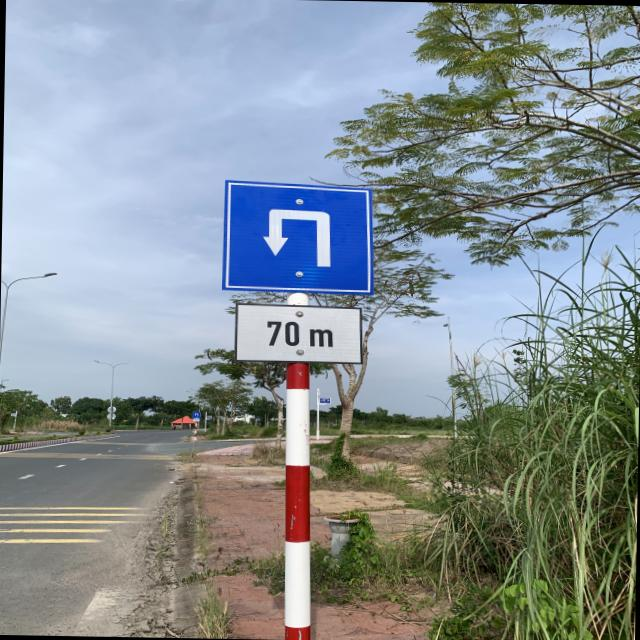Den_Giao_Thong: (224, 181, 374, 291)
